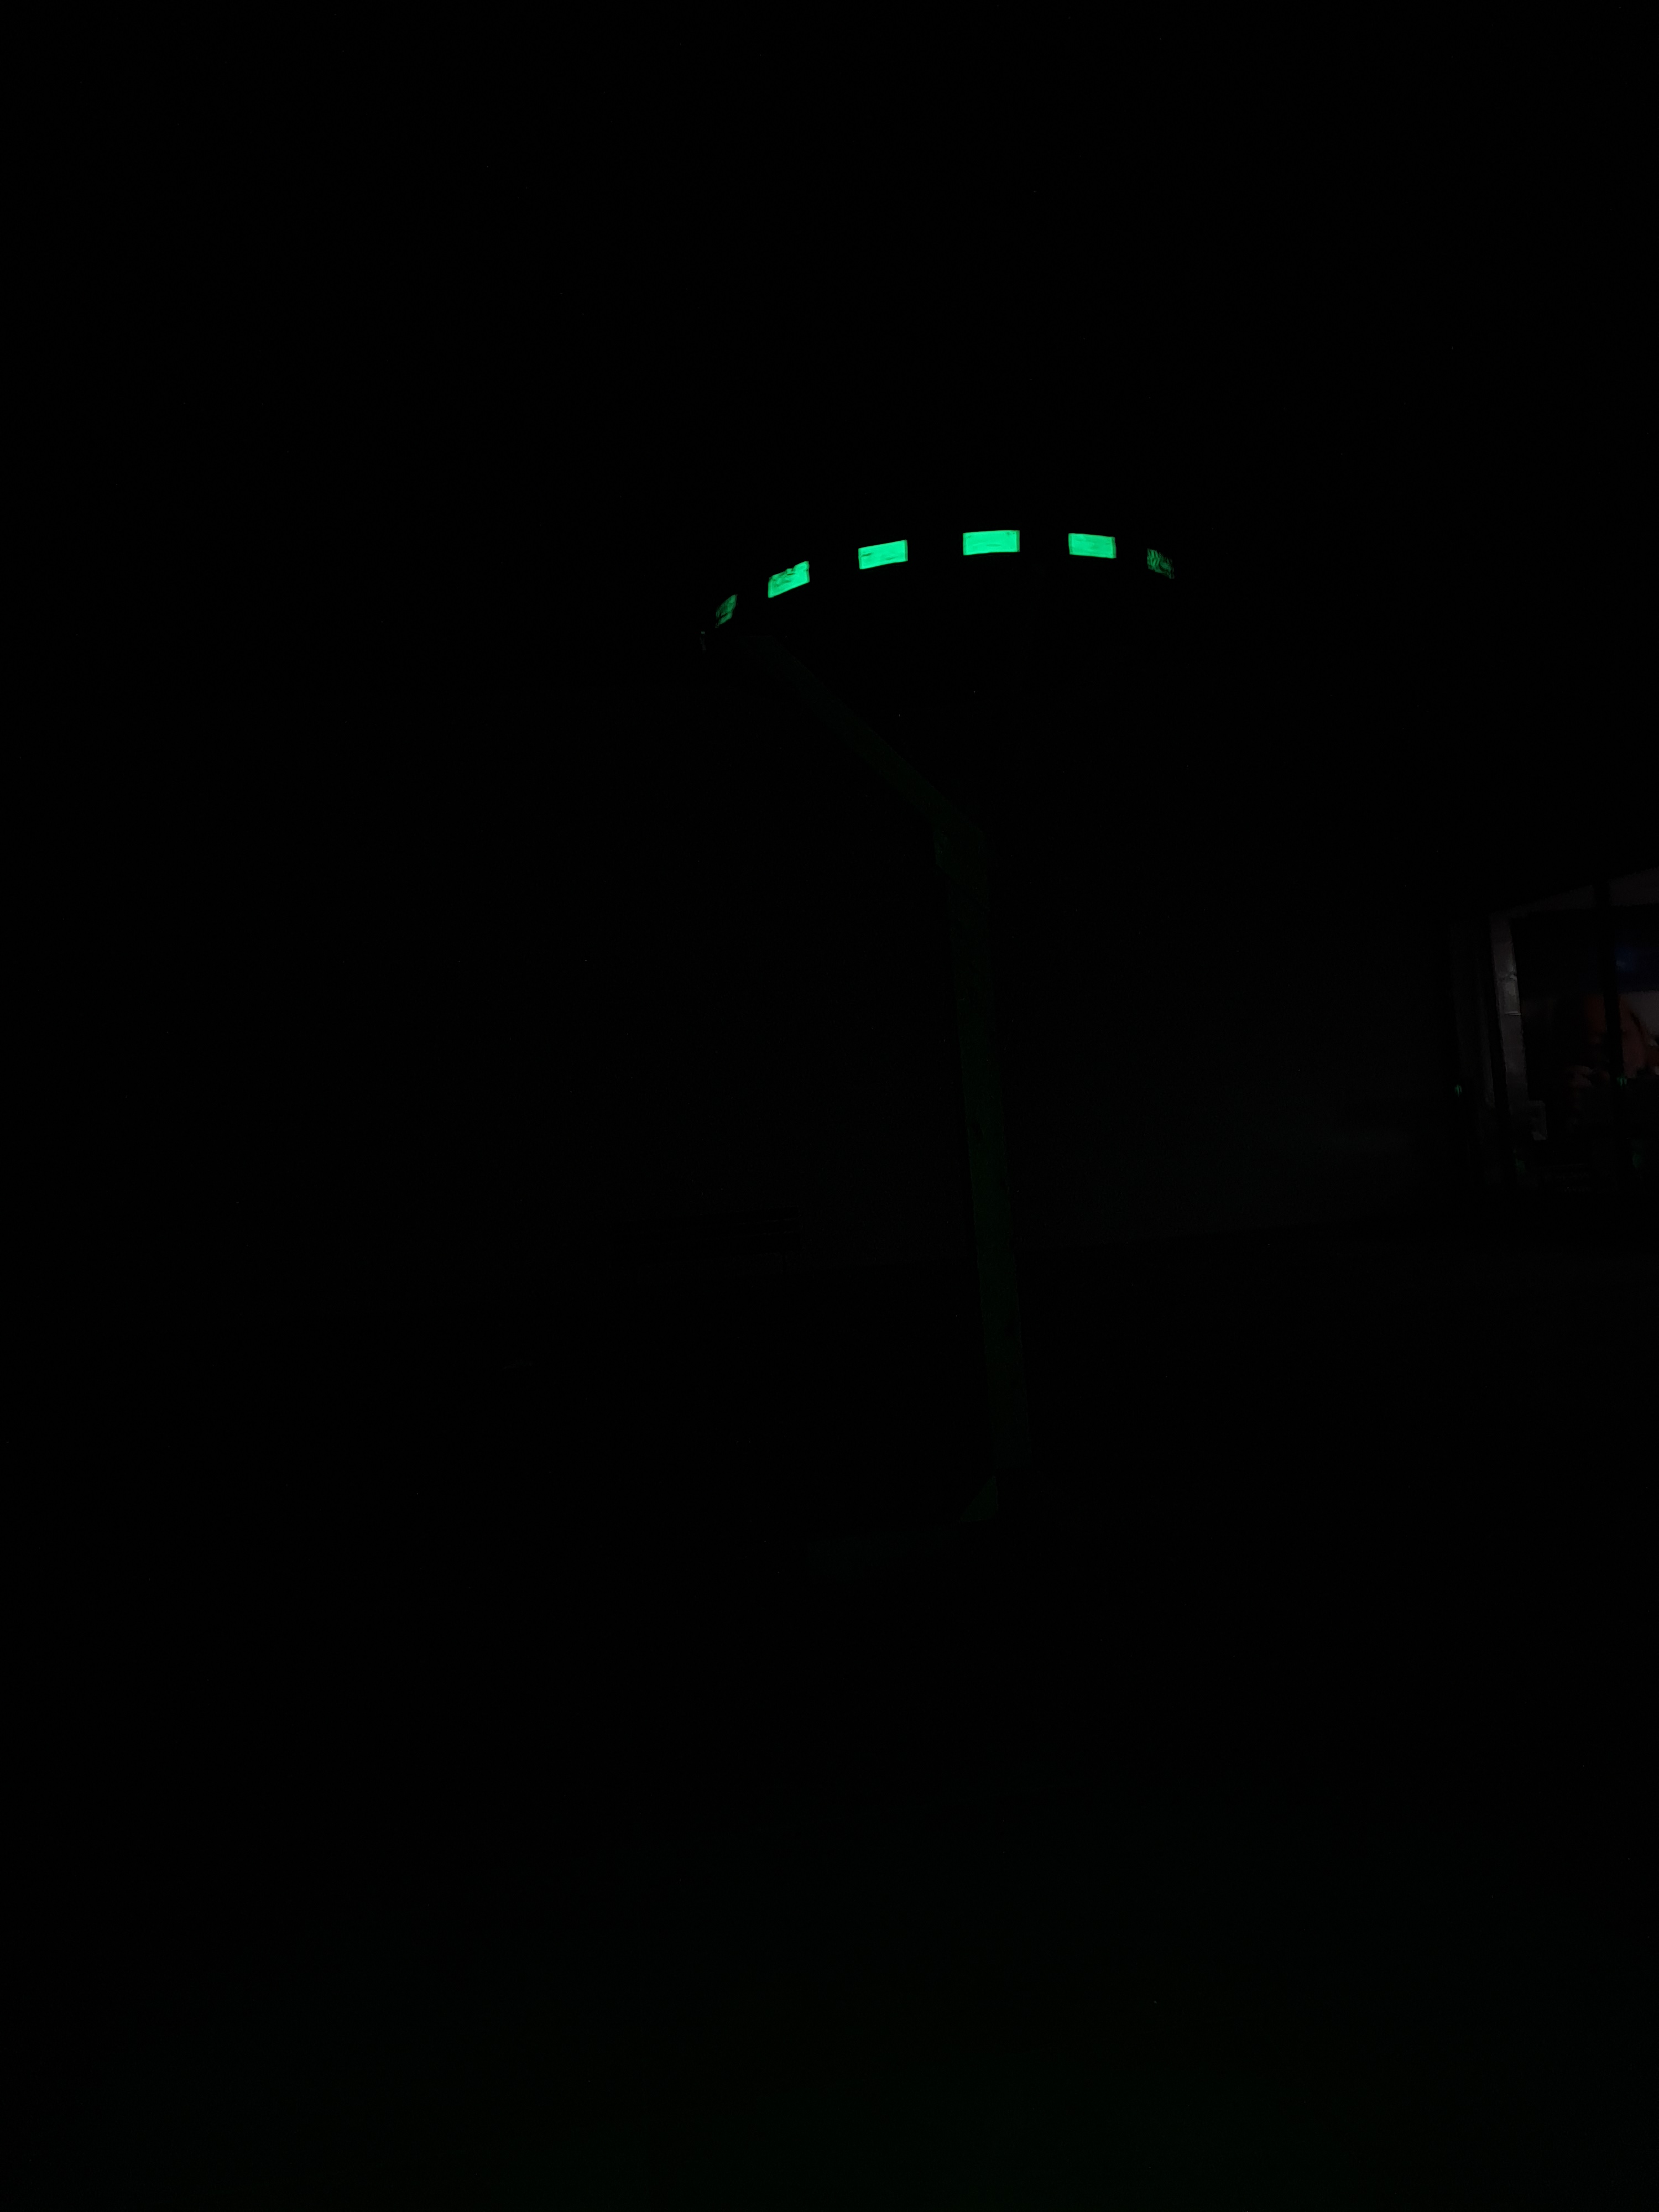hoop: (688, 509, 1209, 646)
